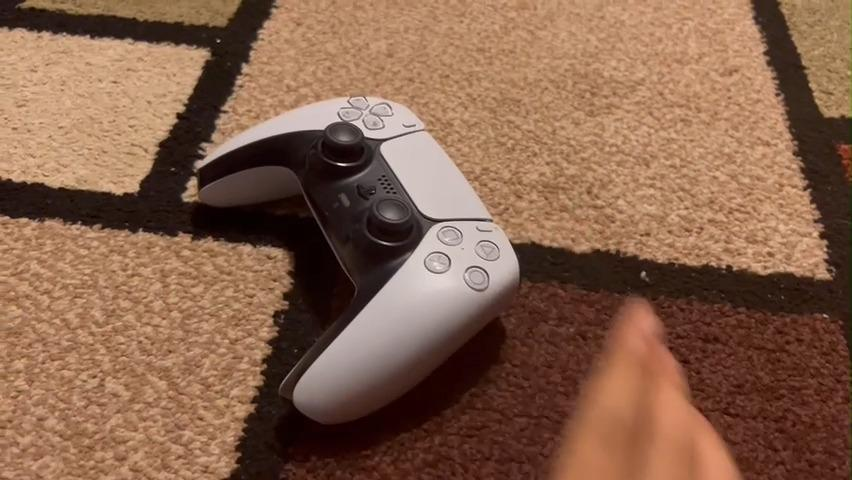controller: (180, 67, 544, 449)
